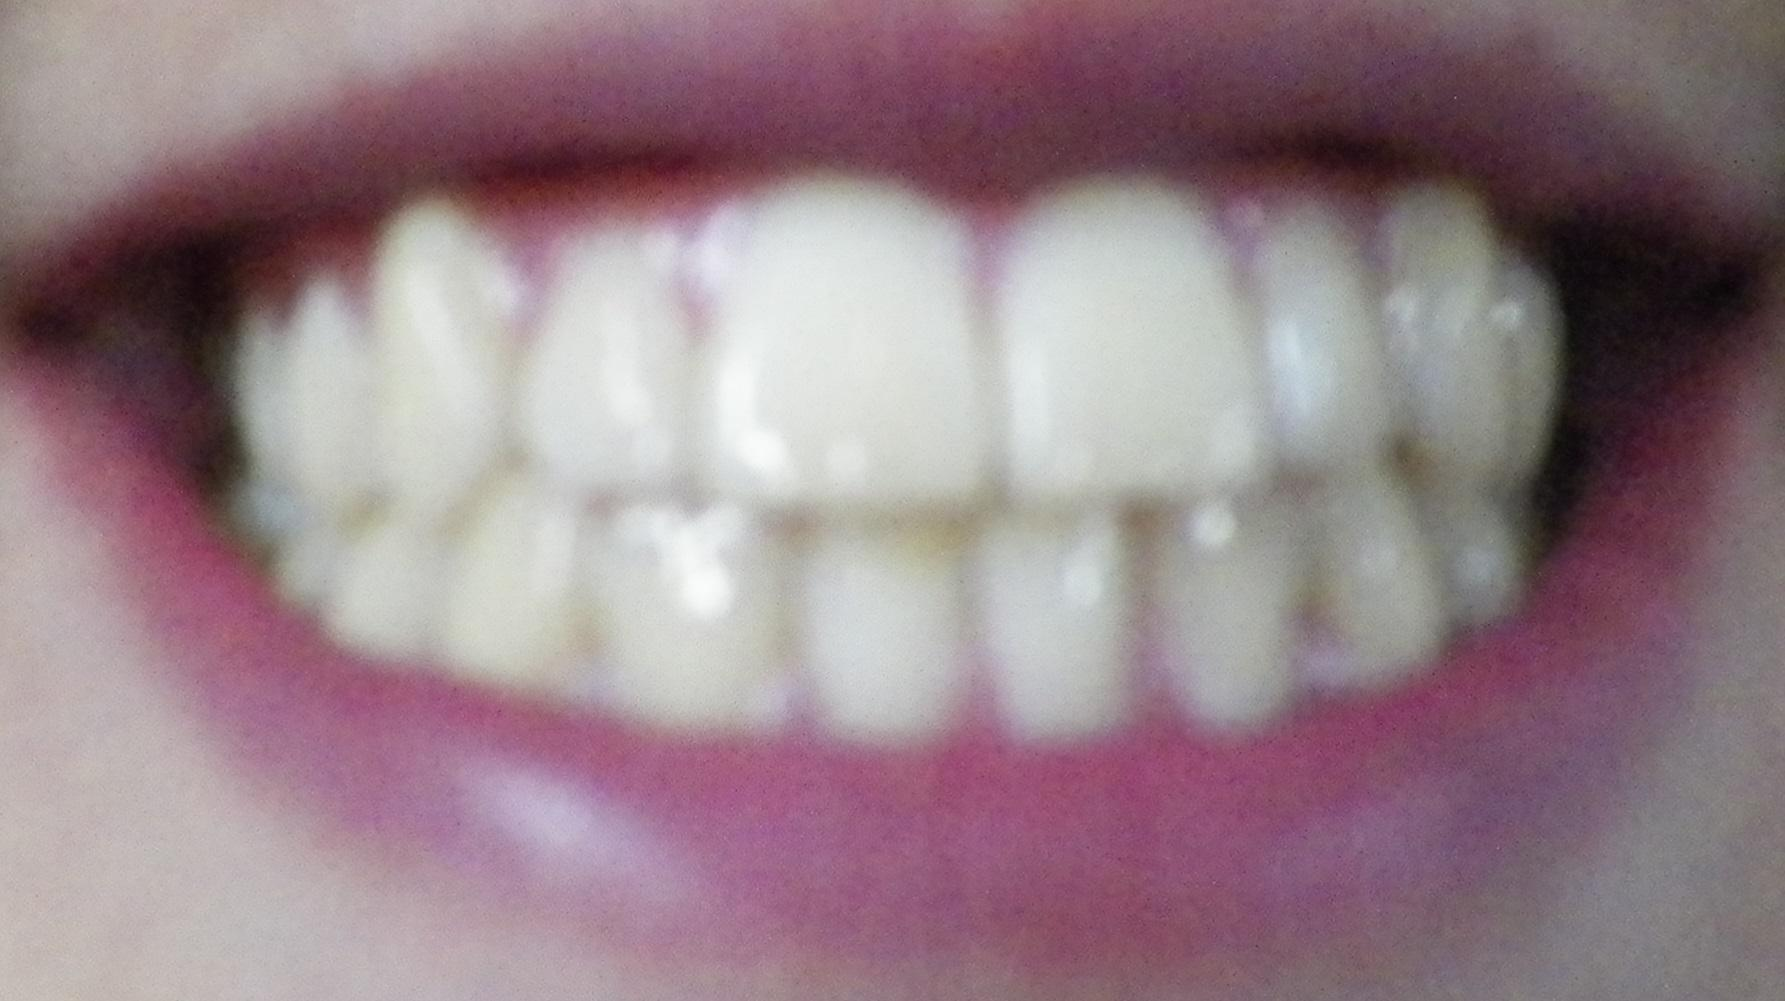cavity: (1351, 140, 1509, 504), (810, 494, 976, 754)
normal: (679, 130, 1022, 524), (984, 148, 1276, 546), (349, 174, 546, 535), (505, 183, 718, 501), (573, 482, 815, 750), (962, 464, 1163, 756), (1262, 437, 1469, 704), (1235, 176, 1401, 504), (1135, 483, 1323, 762), (417, 450, 598, 706), (1448, 208, 1570, 507), (277, 247, 387, 542), (306, 482, 457, 678), (1407, 468, 1551, 633), (223, 272, 324, 507), (253, 494, 382, 626)
